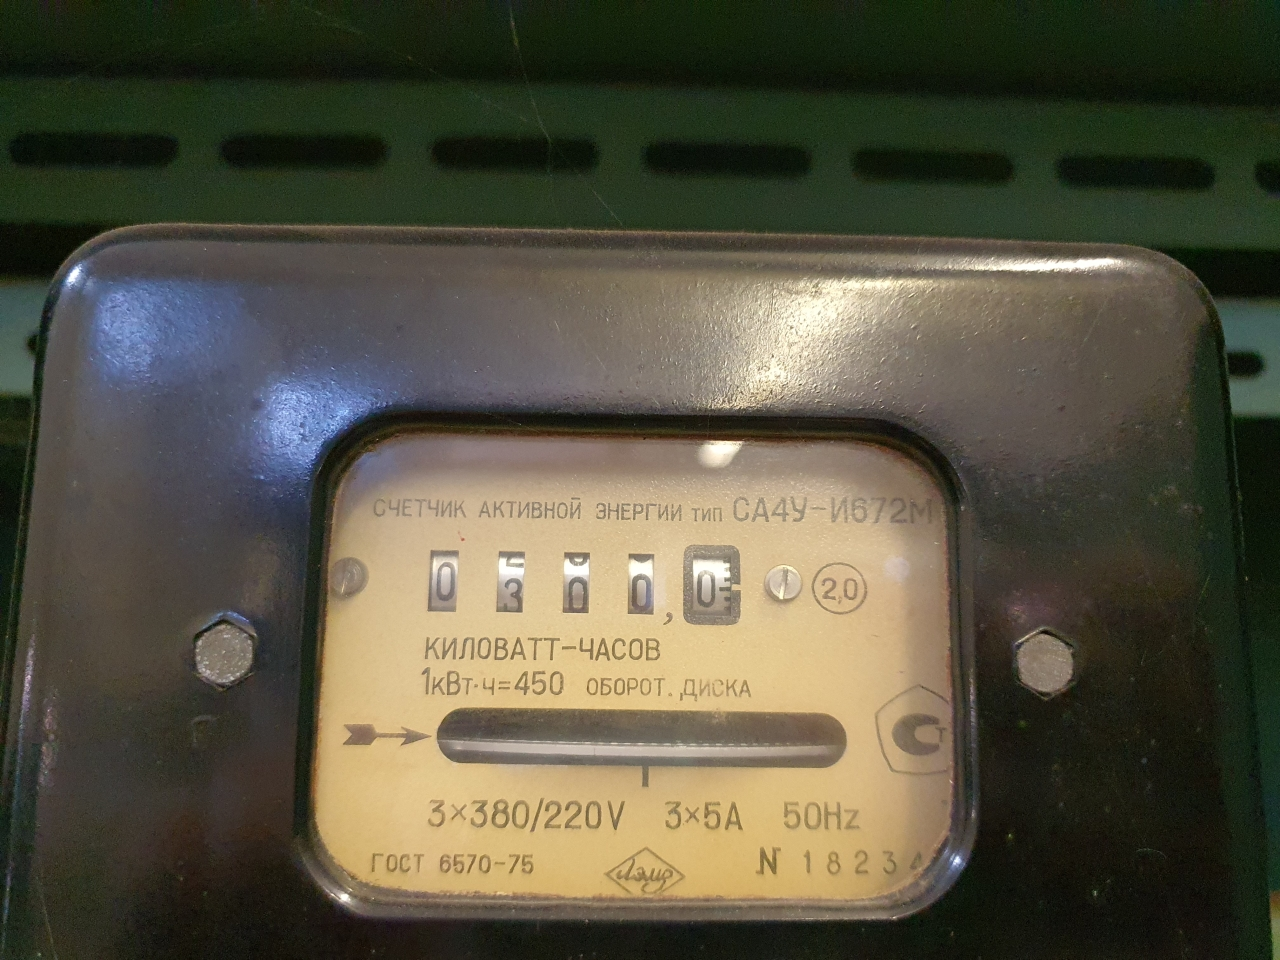0: (629, 571, 654, 614), (693, 567, 718, 610), (434, 558, 457, 604), (565, 573, 589, 614)
3: (501, 575, 524, 613)
screen: (407, 527, 761, 641)
